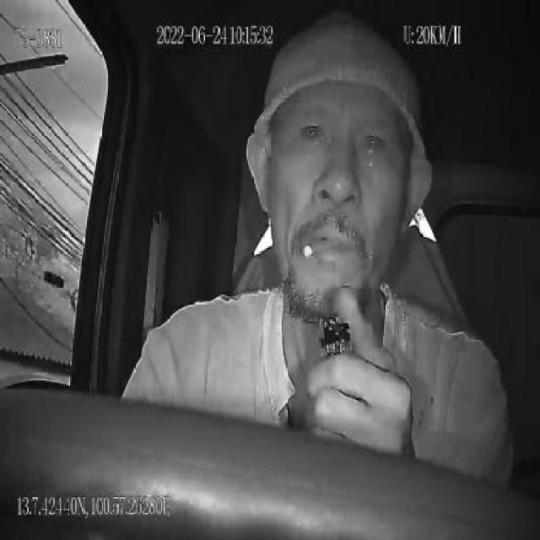smoking: (300, 229, 341, 259)
